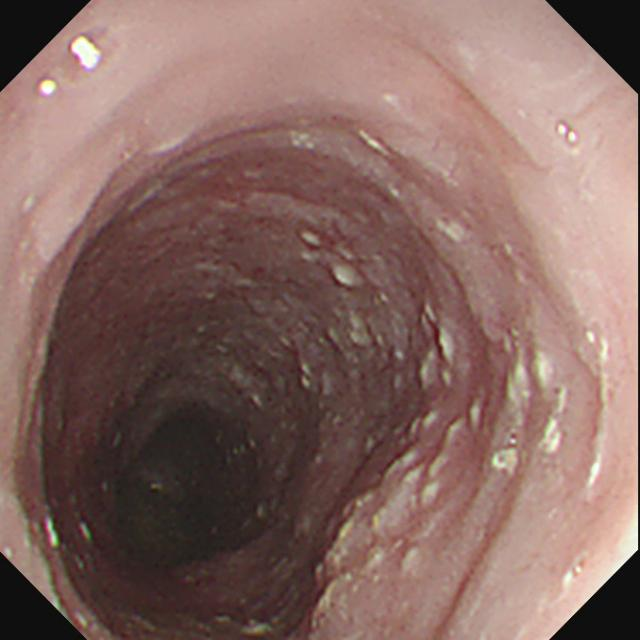E: (84, 365, 286, 575)
J: (311, 397, 467, 631), (300, 221, 463, 392), (471, 327, 570, 473)
U: (71, 35, 103, 73), (557, 122, 579, 145), (38, 80, 59, 97)
